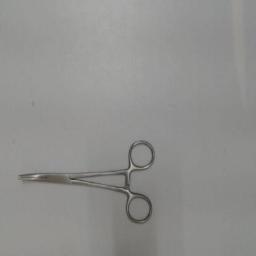Crile Artery Forceps: (14, 135, 158, 231)
